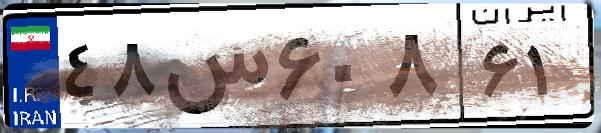0: (330, 28, 385, 110)
1: (525, 38, 570, 115)
4: (57, 26, 110, 100)
6: (270, 28, 330, 110), (475, 38, 525, 113)
8: (385, 28, 445, 110), (110, 28, 158, 98)
س: (158, 20, 270, 120)
